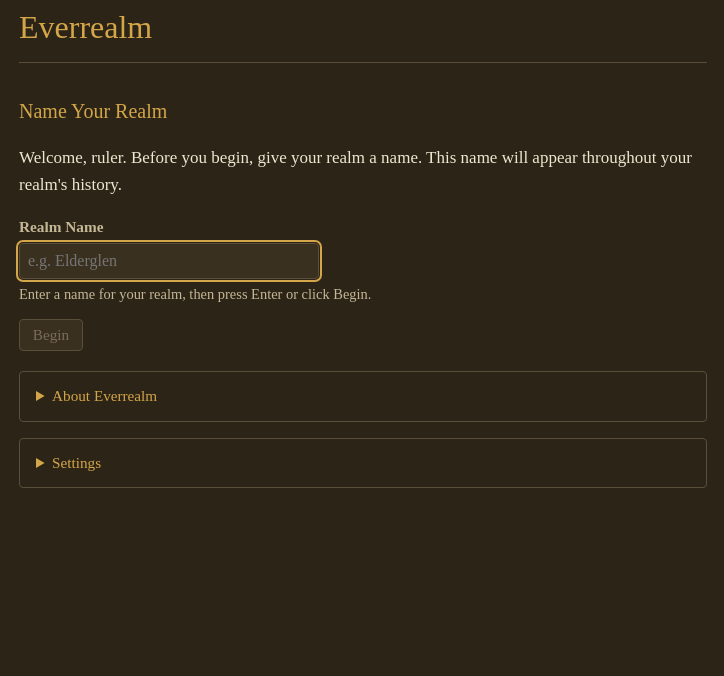
Scenario: App › transitions to game after entering realm name
The image size is (724, 676).
Type "Testhold" into the field labelled "Realm Name".
click(169, 262); type("Testhold")  # box left=19, top=244, right=319, bottom=280
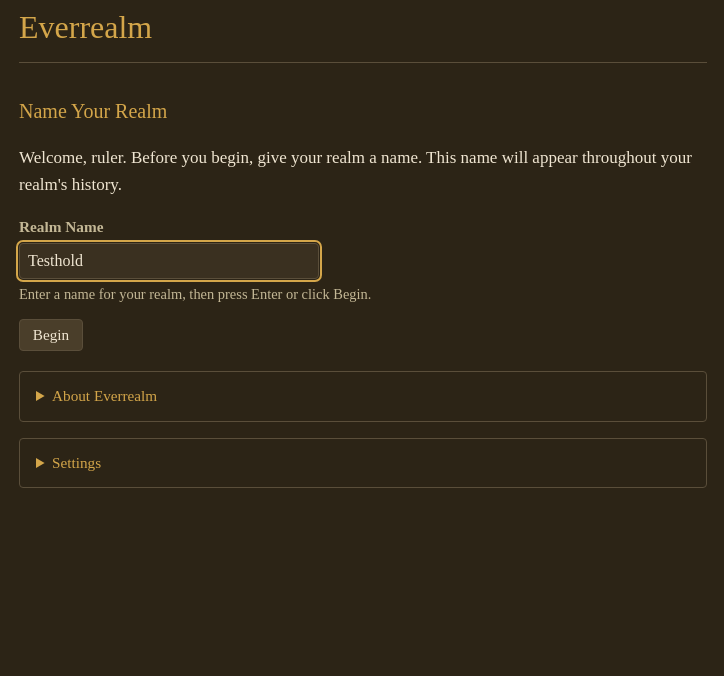
Click the button "Begin".
click(51, 335)  # box left=19, top=319, right=83, bottom=351
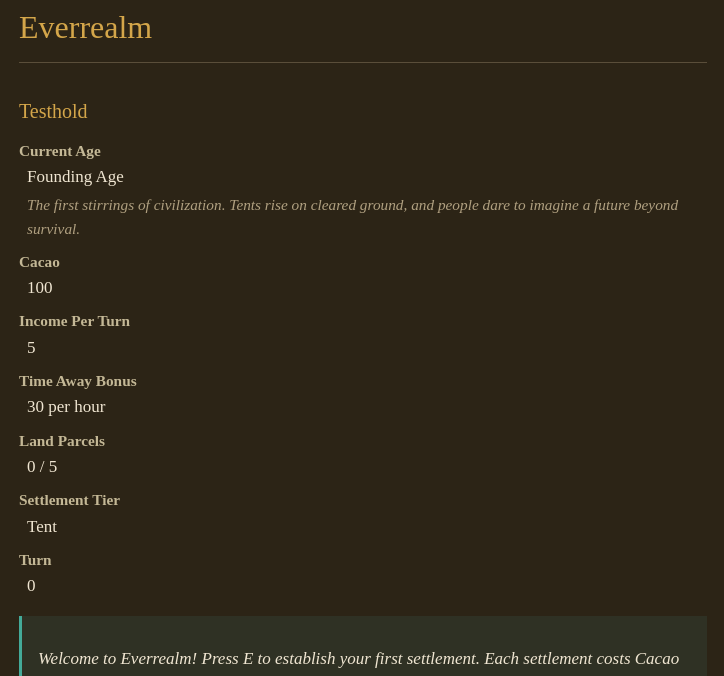
expect the element named "Realm Summary" is shown: met
